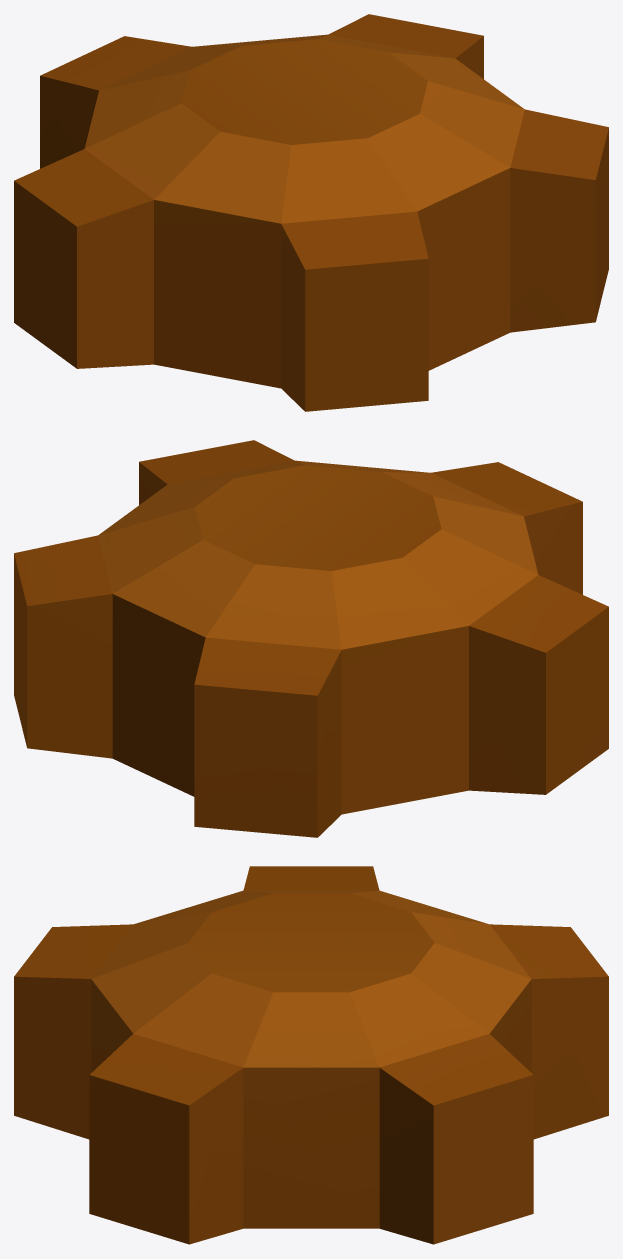
Rendered from Gear 5 Teeth.glb.
3 renders of one model, top to bottom at view 1: azimuth 30°, elevation 25°; view 2: azimuth 150°, elevation 25°; view 3: azimuth 270°, elevation 25°, orthographic. The views are drawn at different scales.
Parts seen in each view (by area): view 1: Gear5Teeth; view 2: Gear5Teeth; view 3: Gear5Teeth.
Boxes of the visible parts, box(x1,y1,x2,y2) form: Gear5Teeth: box(14, 14, 608, 411); Gear5Teeth: box(14, 440, 608, 837); Gear5Teeth: box(14, 866, 608, 1244).
Size of what is drawn, in the model's own units: 1.29 by 0.5854 by 1.35.
Materials: 1 (1 with a texture image).
